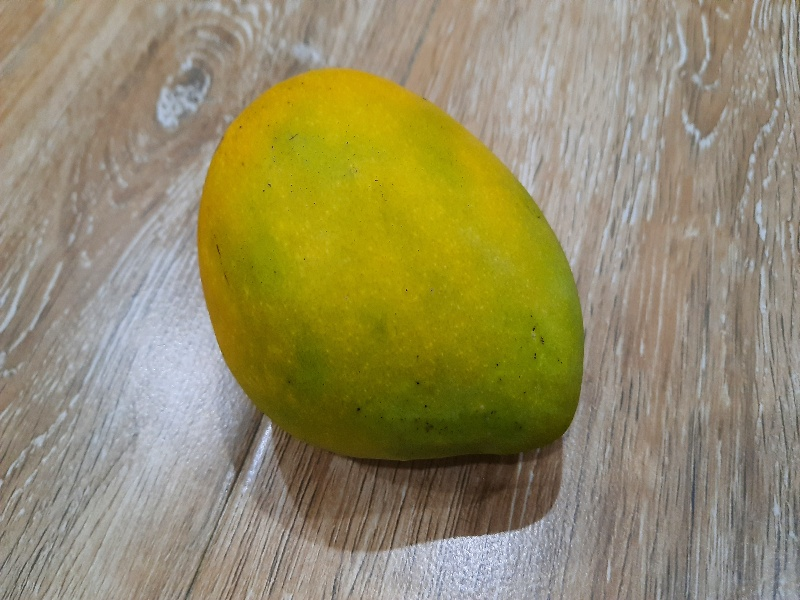fruit: (196, 63, 584, 469)
